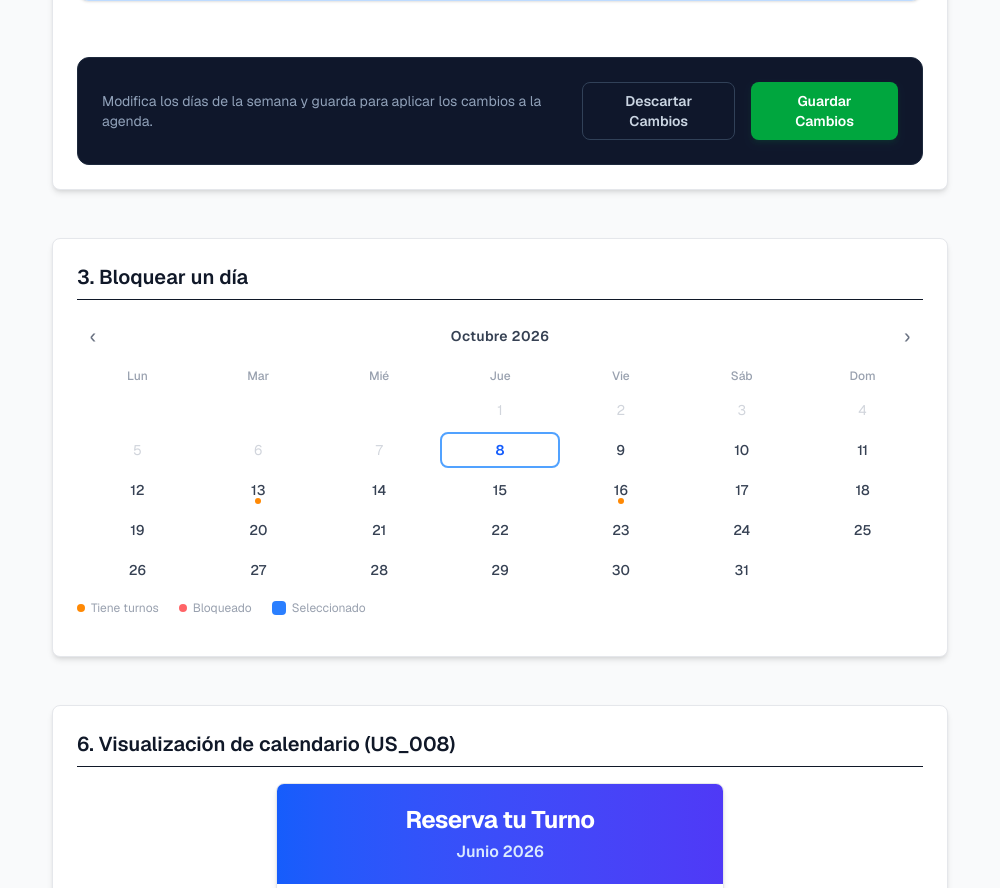
US_005: Seleccionar días para bloquearlos (Componente Gestión de Disponibilidad) › Debería bloquear un día futuro sin reservas al confirmar
(page scrolled)
Click the button with test id "dia-202" at (621, 450), box [560,432,681,468]
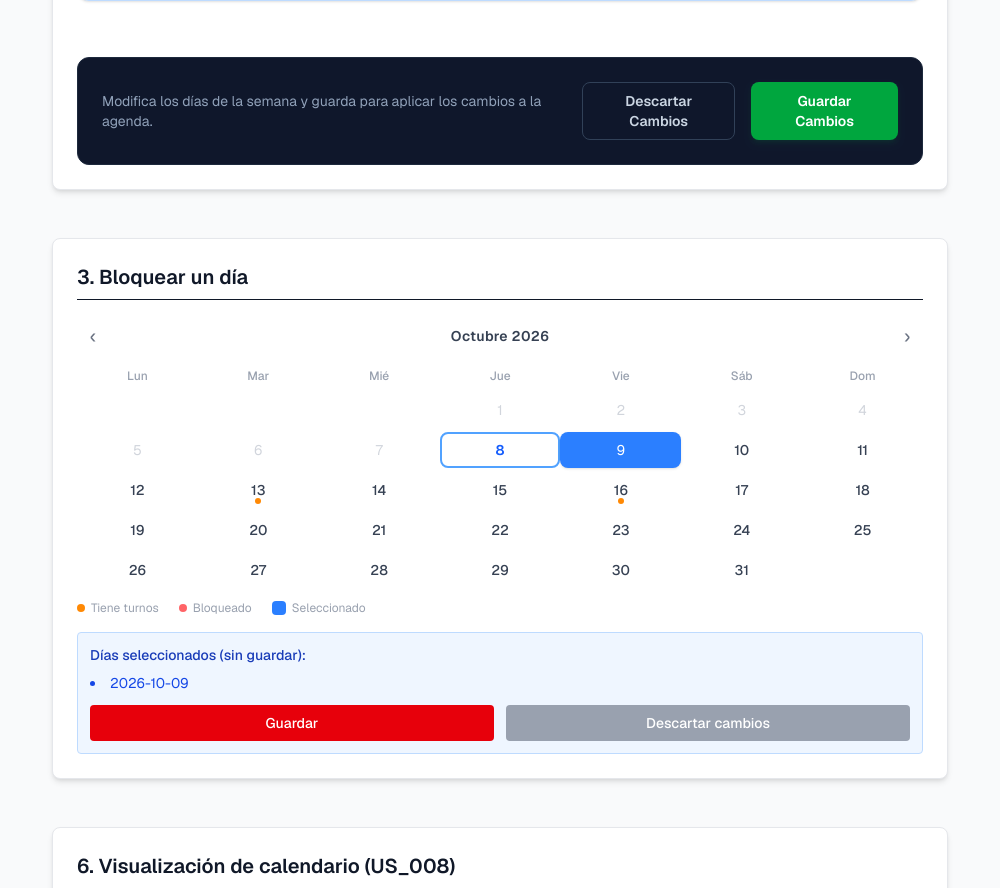
Expected: the button with test id "btn-guardar" is shown
Esperamos a que la interfaz actualice el estado y clickeamos confirmar bloqueo
Click the button with test id "btn-guardar" at (292, 723), box [90,705,494,741]
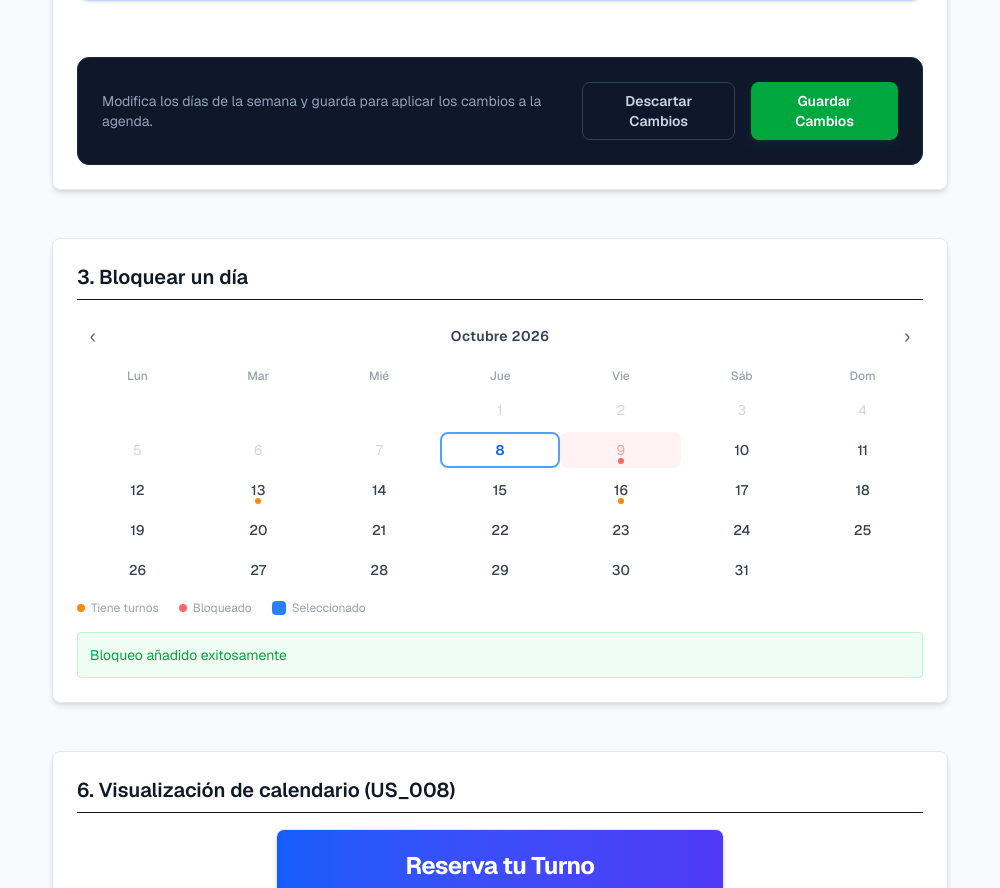
Expected: the text "Bloqueo añadido exitosamente" is shown, [77,632,923,678]
